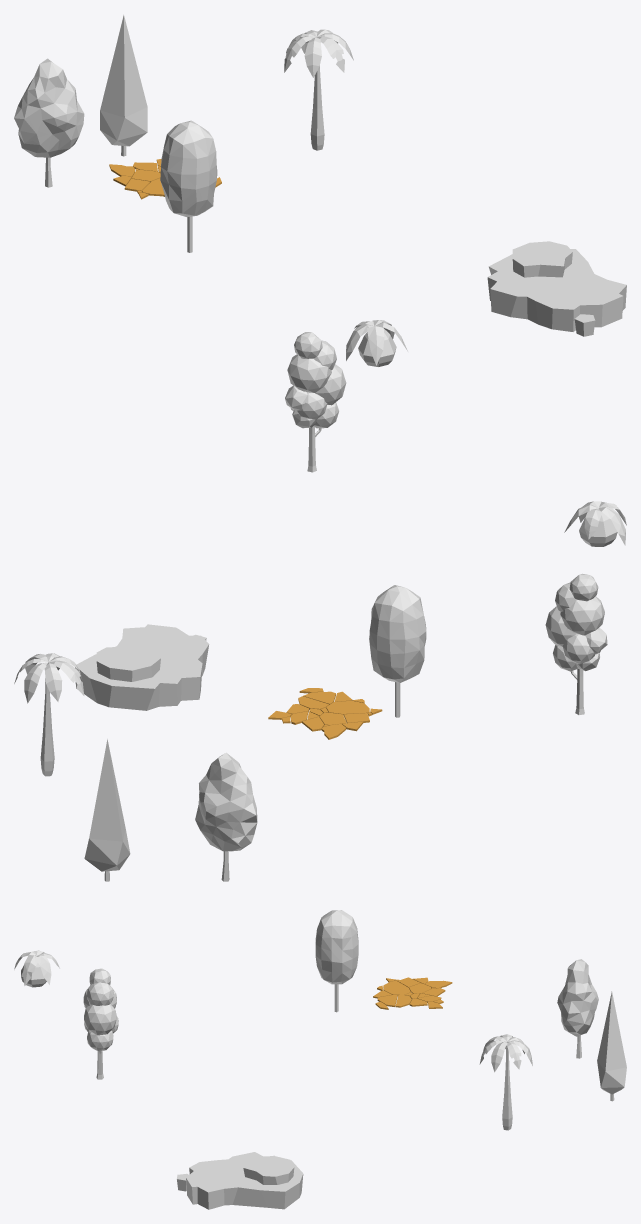
The model's file is Trees.fbx.
3 views of the same model, one above another, from view 1: azimuth 30°, elevation 25°; view 2: azimuth 150°, elevation 25°; view 3: azimuth 270°, elevation 25° (orthographic). The views are drawn at different scales.
Parts seen in each view (by area): view 1: rock-terrasse, tree-birch, tree-elipse, tree-oak, tree-poplar, palm, palm-small, ground-cracked; view 2: rock-terrasse, tree-elipse, tree-oak, tree-birch, tree-poplar, ground-cracked, palm, palm-small; view 3: rock-terrasse, tree-elipse, tree-oak, tree-birch, tree-poplar, ground-cracked, palm, palm-small.
Part boxes in pixels (left/top/right/bottom): rock-terrasse: left=487, top=241, right=626, bottom=336; tree-birch: left=14, top=58, right=84, bottom=187; tree-elipse: left=160, top=120, right=217, bottom=252; tree-oak: left=285, top=332, right=346, bottom=472; tree-poplar: left=100, top=15, right=147, bottom=156; palm: left=284, top=29, right=353, bottom=150; palm-small: left=346, top=320, right=407, bottom=366; ground-cracked: left=109, top=159, right=221, bottom=199; rock-terrasse: left=75, top=624, right=209, bottom=710; tree-elipse: left=369, top=585, right=426, bottom=717; tree-oak: left=545, top=573, right=607, bottom=714; tree-birch: left=195, top=752, right=257, bottom=881; tree-poplar: left=84, top=739, right=130, bottom=881; ground-cracked: left=268, top=688, right=382, bottom=739; palm: left=14, top=653, right=84, bottom=776; palm-small: left=564, top=501, right=626, bottom=546; rock-terrasse: left=177, top=1152, right=303, bottom=1209; tree-elipse: left=315, top=910, right=358, bottom=1012; tree-oak: left=83, top=968, right=118, bottom=1079; tree-birch: left=557, top=959, right=598, bottom=1058; tree-poplar: left=597, top=991, right=626, bottom=1101; ground-cracked: left=373, top=977, right=452, bottom=1009; palm: left=479, top=1034, right=532, bottom=1130; palm-small: left=14, top=950, right=59, bottom=987.
Bounding box in the file's own units: 2319 × 1242 × 3858.
